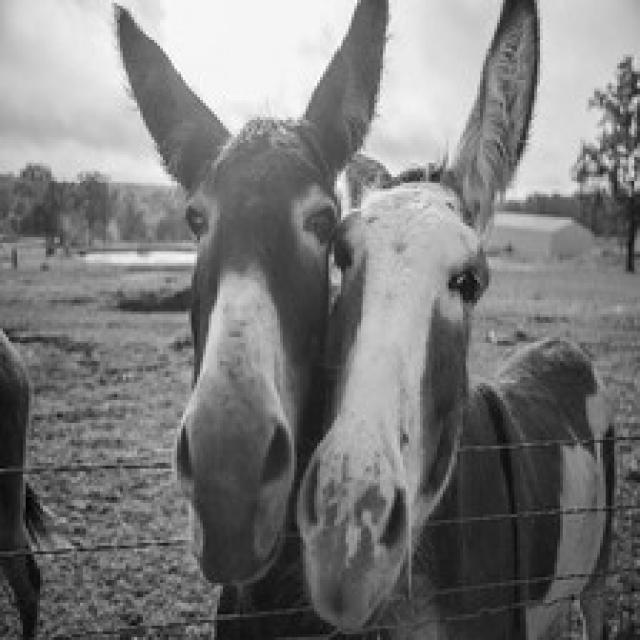Donkey: (294, 0, 617, 637), (108, 0, 392, 637)
